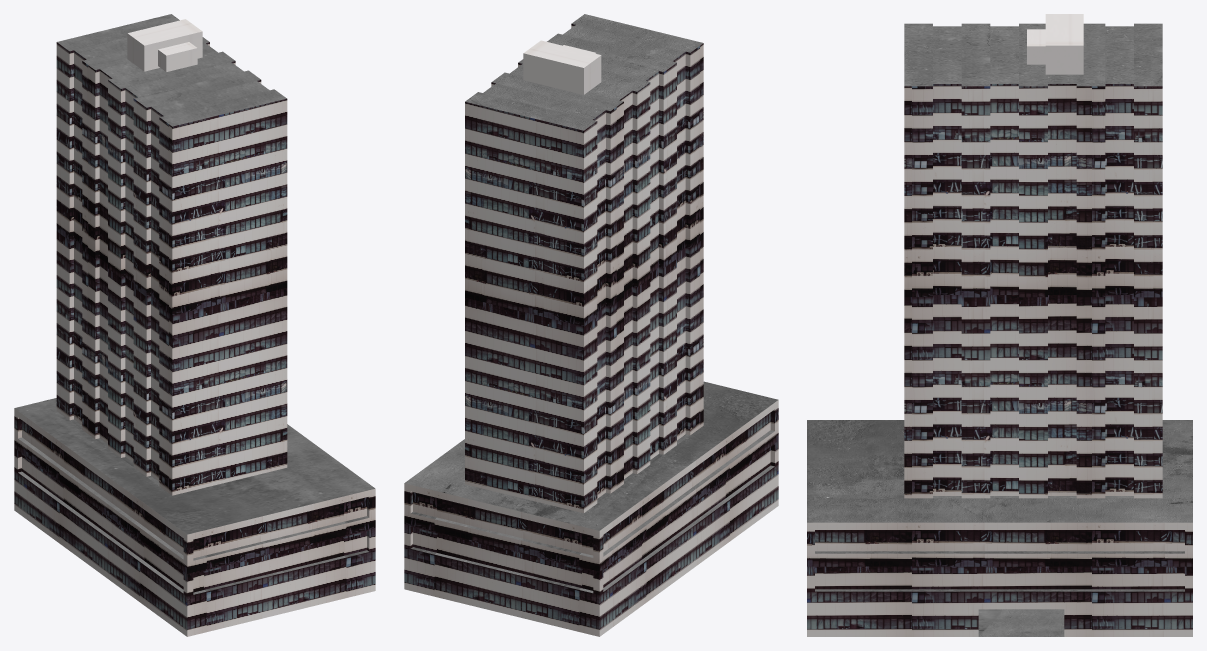
File: TOWER_08.fbx
3 renders of one model, left to right at view 1: azimuth 30°, elevation 25°; view 2: azimuth 150°, elevation 25°; view 3: azimuth 270°, elevation 25°, orthographic. The views are drawn at different scales.
Visible parts, largest first — view 1: TOWER_08; view 2: TOWER_08; view 3: TOWER_08.
Part boxes in pixels (box(x1,y1,x2,y2)): TOWER_08: box(14, 14, 375, 636); TOWER_08: box(404, 14, 778, 636); TOWER_08: box(807, 14, 1192, 636).
Size of the model in its own units: 3230 by 8145 by 5130.
